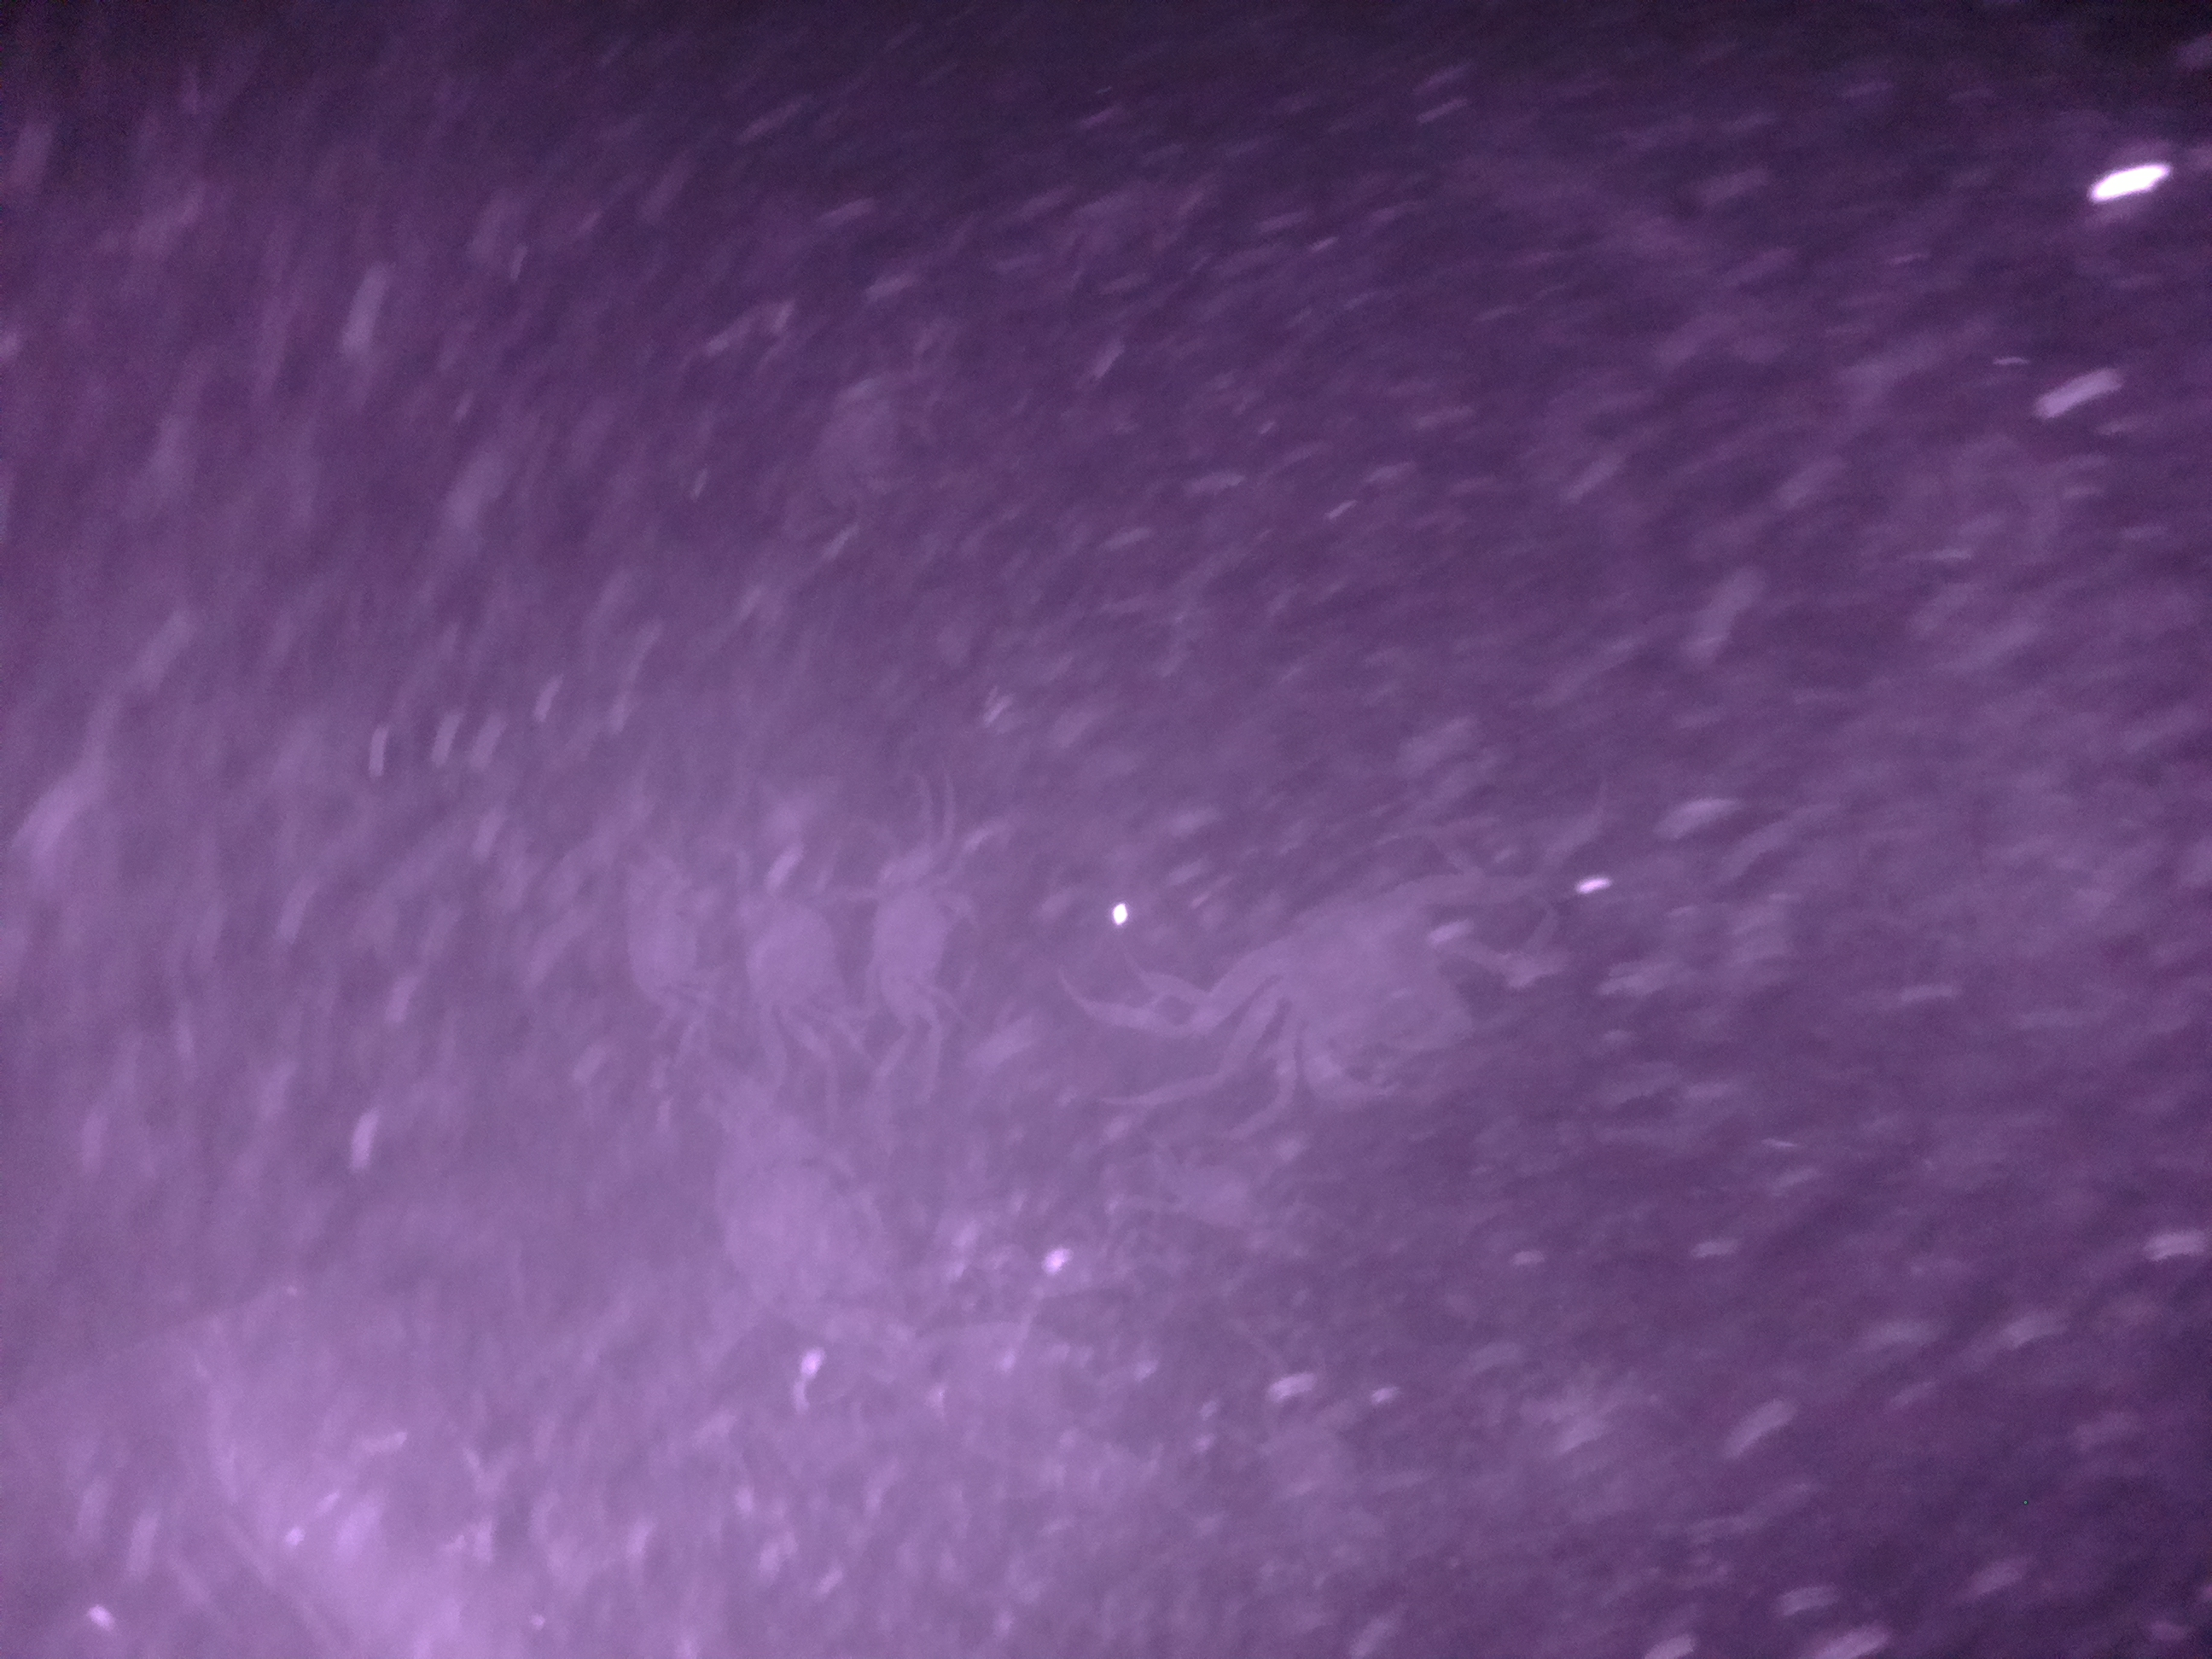Crab: (1197, 819, 1548, 1164), (853, 833, 991, 1082)
